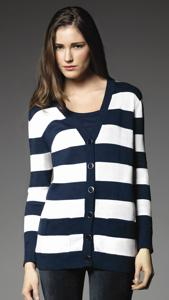S_cardigan sweater: (20, 71, 155, 280)
